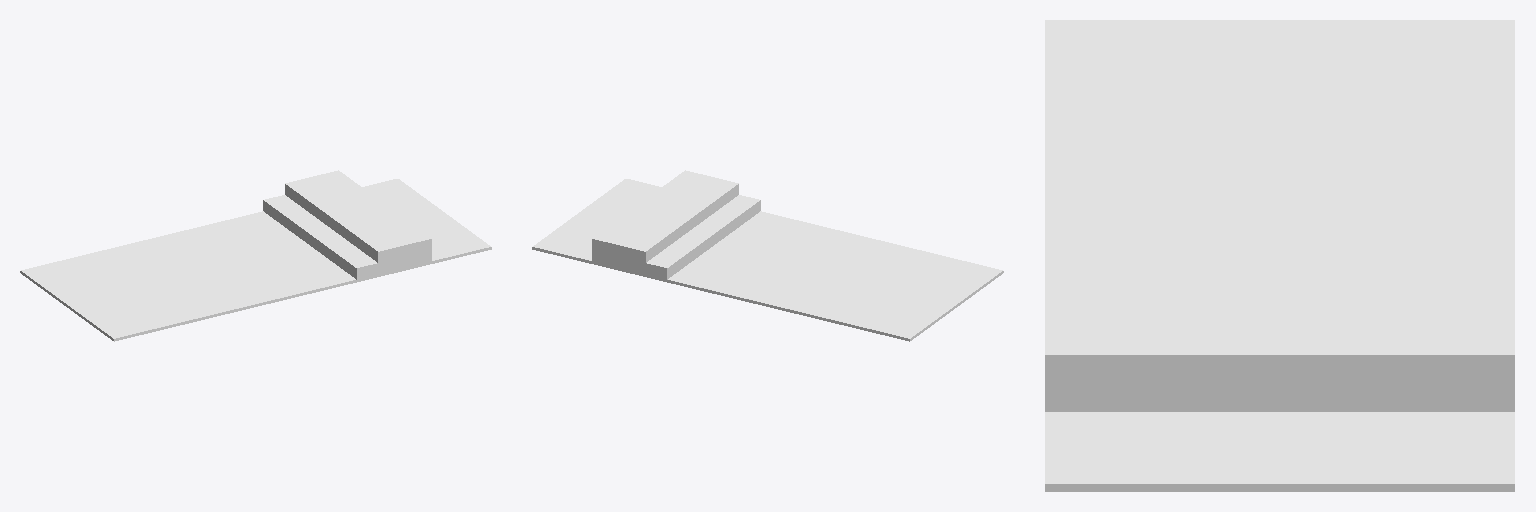
The robot description file, URDF, robot "stair_bauzil":
<robot name="stair_bauzil">
  <link name="base_link">
    <visual>
      <origin xyz="0 0 0" rpy="0 0 0" />
      <geometry>
        <mesh filename="package://hpp_environments/meshes/multicontact/stairs_towr.stl"/>
      </geometry>
      <material name="white">
        <color rgba="1 1 1 1"/>
      </material>
    </visual>
    <collision>
      <origin xyz="0 0 0" rpy="0 0 0" />
      <geometry>
        <mesh filename="package://hpp_environments/meshes/multicontact/stairs_towr.stl"/>
      </geometry>
    </collision>
  </link>
</robot>

--- What the picture shows (computed from the rendered views, not written in the file) ---
The picture shows the robot from 3 angles, left to right: view 1: azimuth 30°, elevation 25°; view 2: azimuth 150°, elevation 25°; view 3: azimuth 270°, elevation 25°; orthographic projection.
Model stair_bauzil with 1 links and 0 joints (none), rooted at base_link, posed every joint at zero.
Visible links, largest first — view 1: base_link; view 2: base_link; view 3: base_link.
Boxes of the visible links, x1=… form: base_link: x1=20, y1=170, x2=491, y2=341; base_link: x1=532, y1=170, x2=1003, y2=341; base_link: x1=1045, y1=20, x2=1514, y2=491.
Bounding box of the posed robot: 7 × 3 × 0.45 m (x, y, z).
1 mesh visuals loaded from 1 distinct referenced files (1 binary STL).